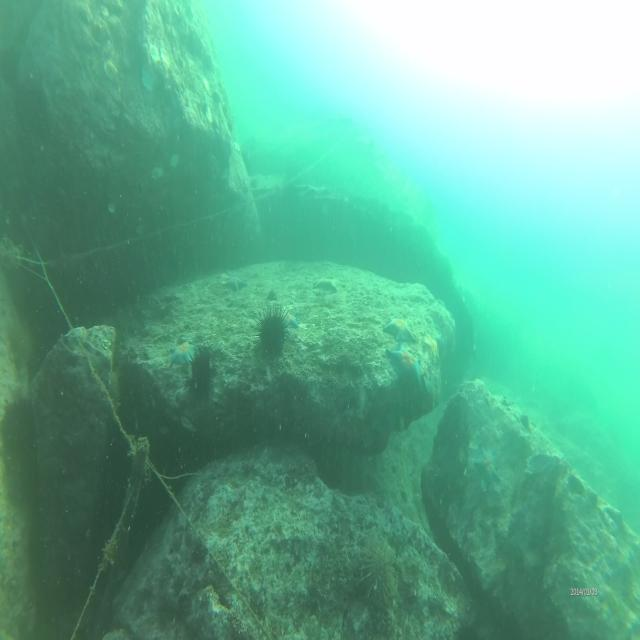echinus: (359, 532, 401, 604), (2, 397, 36, 458), (256, 309, 285, 358), (188, 347, 214, 398)
starfish: (473, 443, 503, 495), (391, 345, 424, 385), (384, 313, 417, 344), (169, 339, 194, 372), (423, 330, 442, 364), (222, 272, 248, 296), (280, 308, 297, 336)
